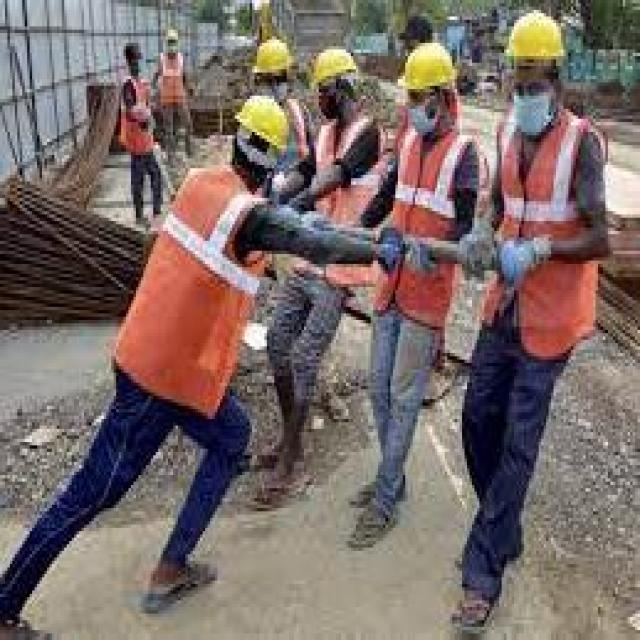Reflective-Jacket: (104, 162, 267, 422), (484, 102, 608, 360), (380, 122, 480, 290), (111, 72, 163, 172), (156, 49, 188, 109)
Safety-Helmet: (227, 89, 299, 168), (497, 3, 573, 76), (390, 33, 464, 106), (306, 36, 366, 99), (244, 30, 302, 89), (161, 23, 185, 50)
